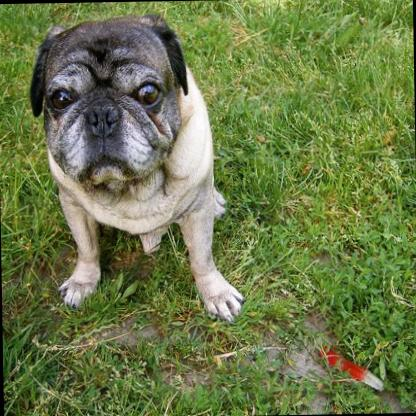pug: (25, 18, 238, 326)
